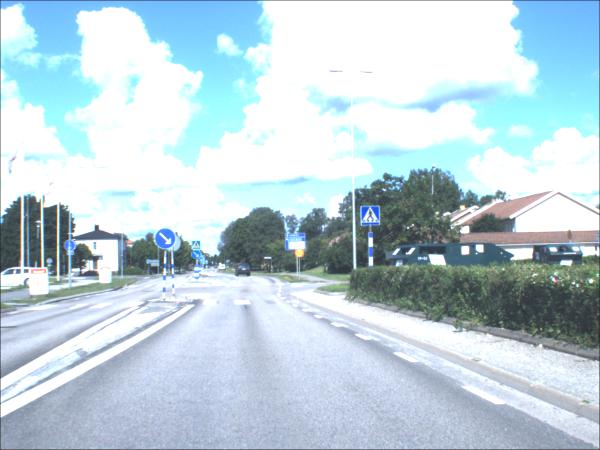50_SIGN: (296, 250, 306, 259)
PASS_RIGHT_SIDE: (156, 229, 178, 251), (193, 251, 203, 262)
PEDESTRIAN_CROSSING: (363, 207, 381, 228), (194, 242, 202, 251)
